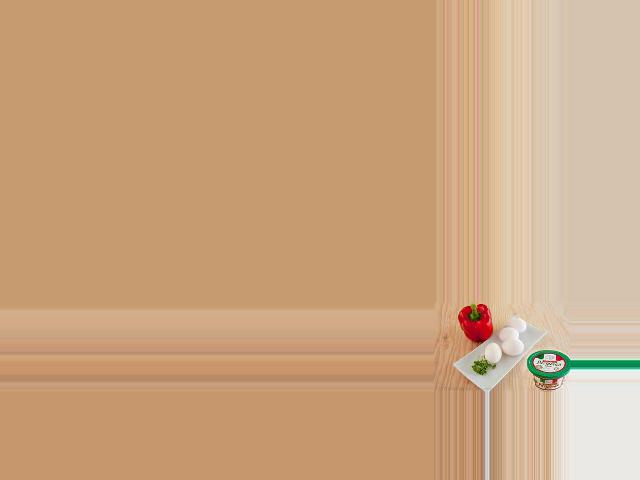bell_pepper: (455, 304, 499, 341)
